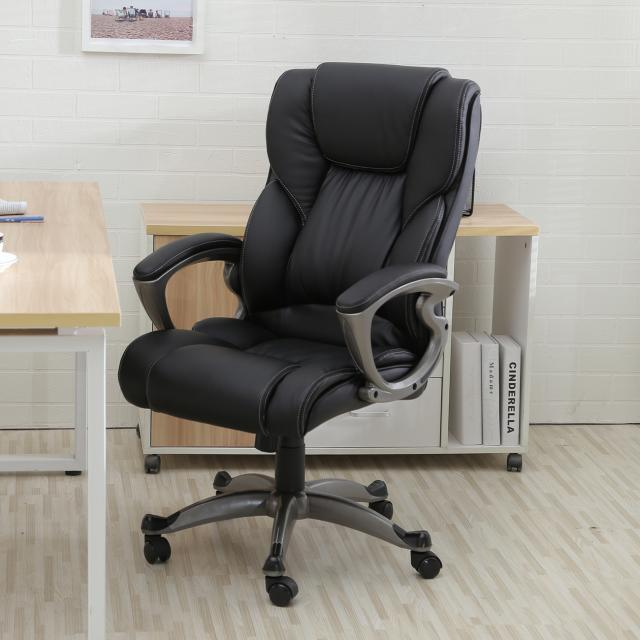chair: (110, 32, 520, 598)
